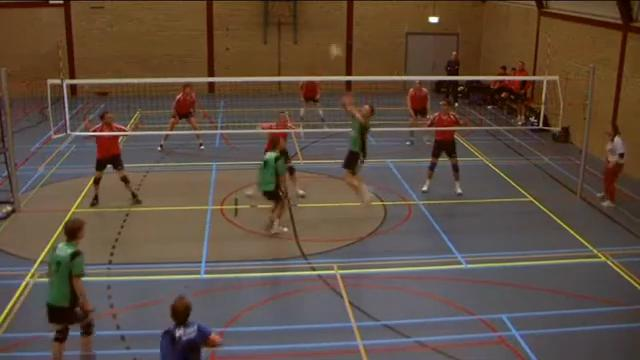Player: (46, 218, 93, 359), (259, 112, 305, 197), (160, 296, 221, 359), (90, 135, 140, 206), (257, 137, 287, 234), (422, 130, 462, 194), (168, 84, 199, 131), (406, 81, 428, 145), (300, 81, 324, 123)
Set: (338, 92, 380, 212)
ball: (327, 42, 343, 61)
